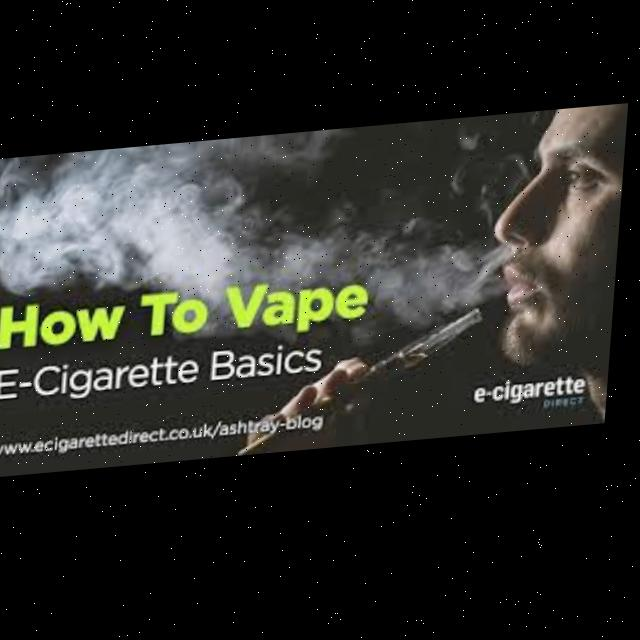vape: (244, 317, 485, 461)
